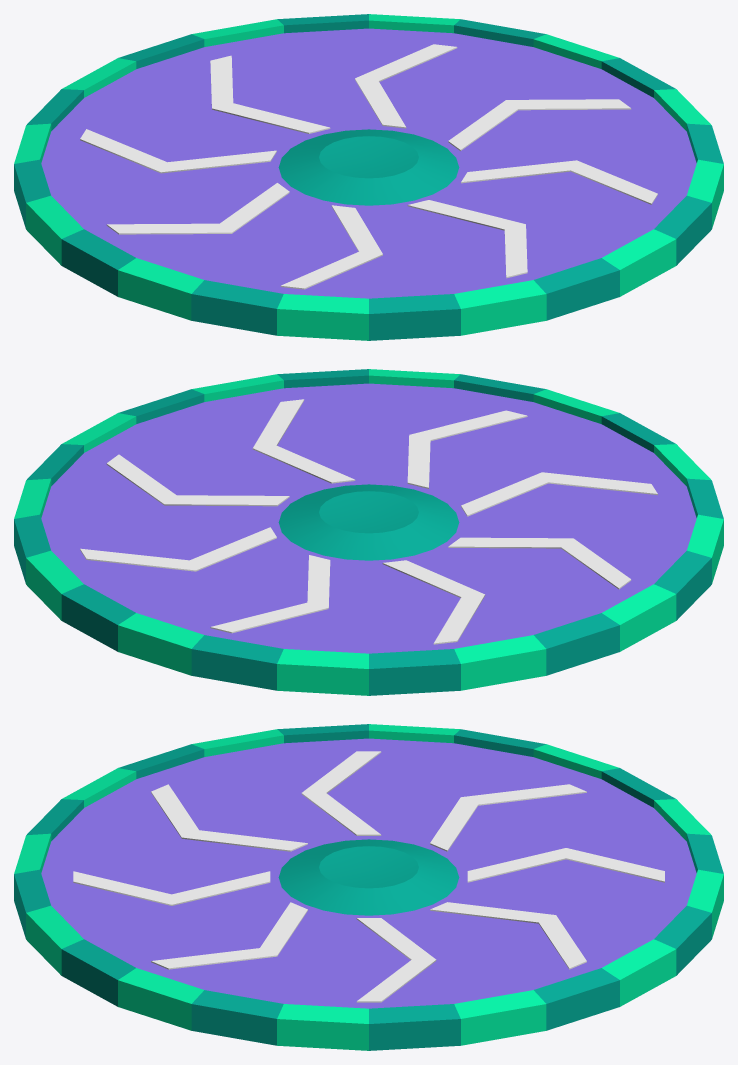
The model's file is roundaboutB.glb.
The picture shows the model from 3 angles, top to bottom: view 1: azimuth 30°, elevation 25°; view 2: azimuth 150°, elevation 25°; view 3: azimuth 270°, elevation 25°; orthographic projection.
Visible parts, largest first — view 1: roundabout1; view 2: roundabout1; view 3: roundabout1.
Part boxes in pixels (<box>): roundabout1: <box>14,14,723,340</box>; roundabout1: <box>14,369,723,695</box>; roundabout1: <box>14,724,723,1050</box>.
Size of what is drawn, in the model's own units: 7.2 by 0.4263 by 7.2.
1 material, 1 textured.
